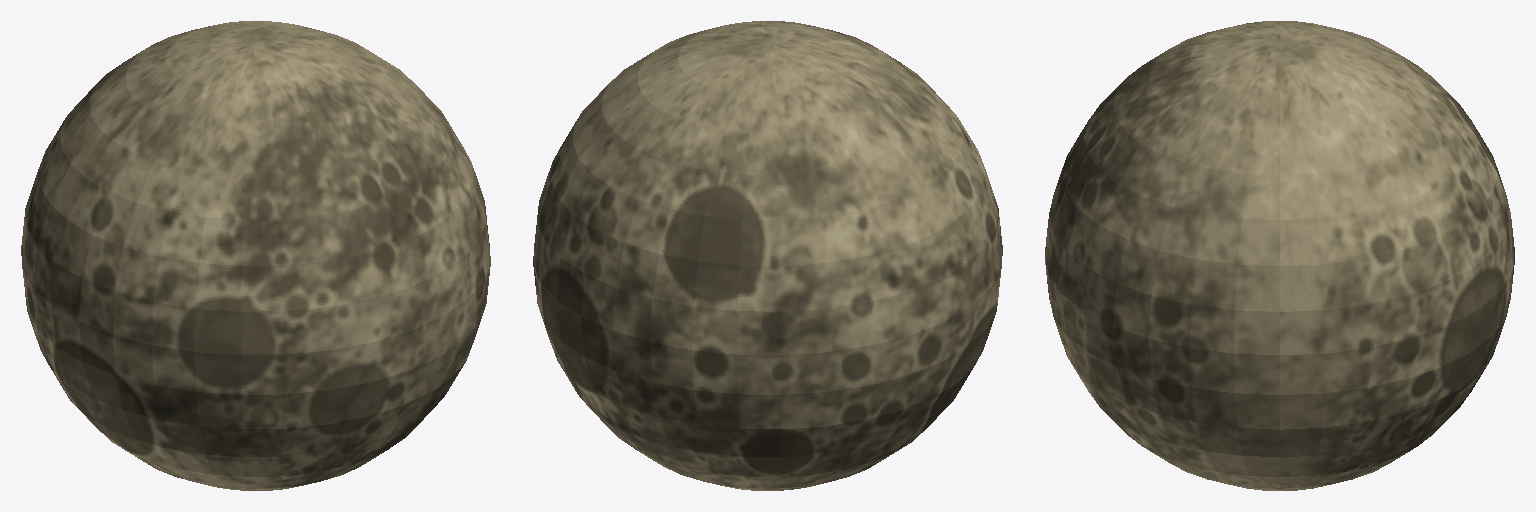
3 renders of one model, left to right at view 1: azimuth 30°, elevation 25°; view 2: azimuth 150°, elevation 25°; view 3: azimuth 270°, elevation 25°, orthographic.
Parts seen in each view (by area): view 1: Moon_Sphere; view 2: Moon_Sphere; view 3: Moon_Sphere.
Boxes of the visible parts, <box> form: Moon_Sphere: <box>21,21,490,490</box>; Moon_Sphere: <box>533,21,1002,490</box>; Moon_Sphere: <box>1045,21,1514,490</box>.
Bounding box in the file's own units: 400 × 400 × 400.
1 materials, 1 textured.